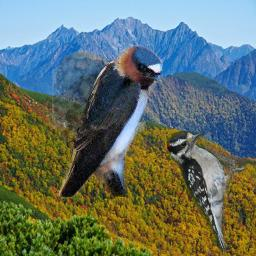Swallow: (52, 44, 163, 197)
Woodpecker: (167, 131, 246, 255)
